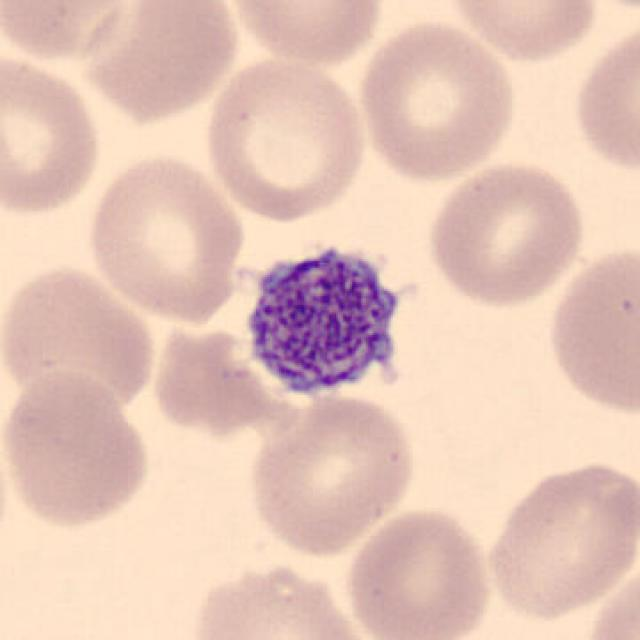Platelets: (240, 247, 395, 397)
RBC: (242, 386, 419, 559), (82, 148, 249, 328), (201, 53, 373, 226), (352, 16, 521, 185), (480, 455, 638, 622), (0, 259, 160, 422), (0, 365, 155, 532), (423, 155, 590, 310), (341, 502, 498, 640), (73, 0, 243, 125), (0, 49, 107, 220), (542, 238, 638, 421), (183, 557, 377, 640), (567, 14, 638, 183), (220, 0, 388, 69), (442, 0, 602, 63), (0, 0, 139, 65), (581, 555, 640, 640), (574, 0, 638, 18)
